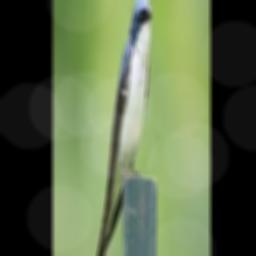Swallow: (96, 0, 153, 256)
